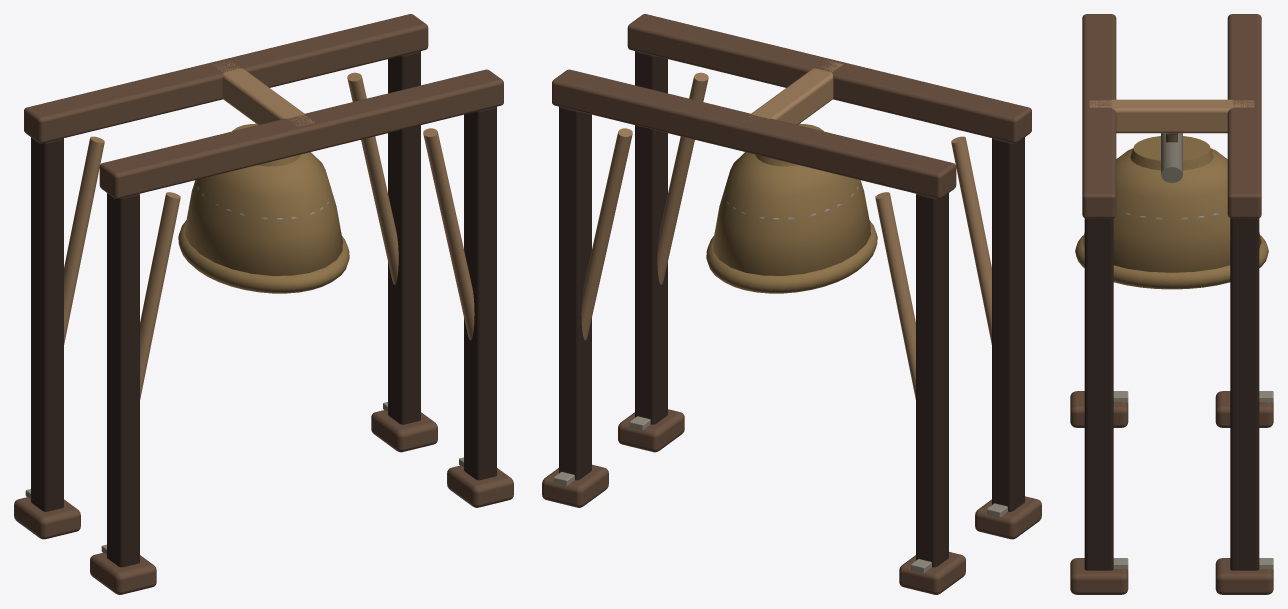
Rendered from detail_bell_frame.glb.
3 renders of one model, left to right at view 1: azimuth 30°, elevation 25°; view 2: azimuth 150°, elevation 25°; view 3: azimuth 270°, elevation 25°, orthographic. The views are drawn at different scales.
Parts seen in each view (by area): view 1: wood; view 2: wood, metal; view 3: wood, metal.
Boxes of the visible parts, box(x1,y1,x2,y2) form: wood: box(14, 14, 513, 594); wood: box(542, 14, 1041, 594); metal: box(553, 180, 1007, 573); wood: box(1070, 14, 1273, 594); metal: box(1113, 213, 1273, 569).
Bounding box in the file's own units: 2.6 × 2.6 × 1.2.
